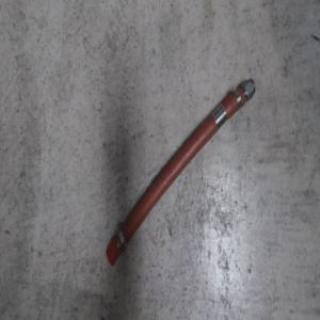Hosetrack_idkeyframe: (104, 74, 255, 269)
